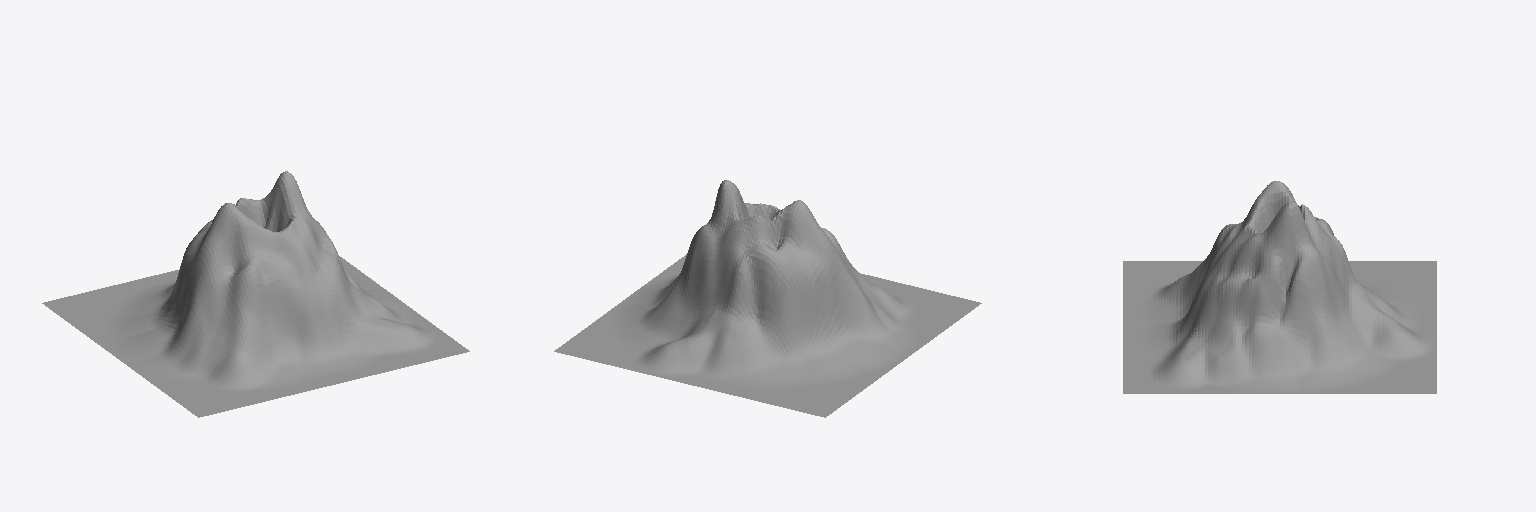
Rendered from volcano.obj.
3 renders of one model, left to right at view 1: azimuth 30°, elevation 25°; view 2: azimuth 150°, elevation 25°; view 3: azimuth 270°, elevation 25°, orthographic.
Visible parts, largest first — view 1: Plane01; view 2: Plane01; view 3: Plane01.
Boxes of the visible parts, <box> form: Plane01: <box>42,171,469,417</box>; Plane01: <box>554,180,981,417</box>; Plane01: <box>1123,181,1436,393</box>.
Size of the model in its own units: 215 by 108 by 215.